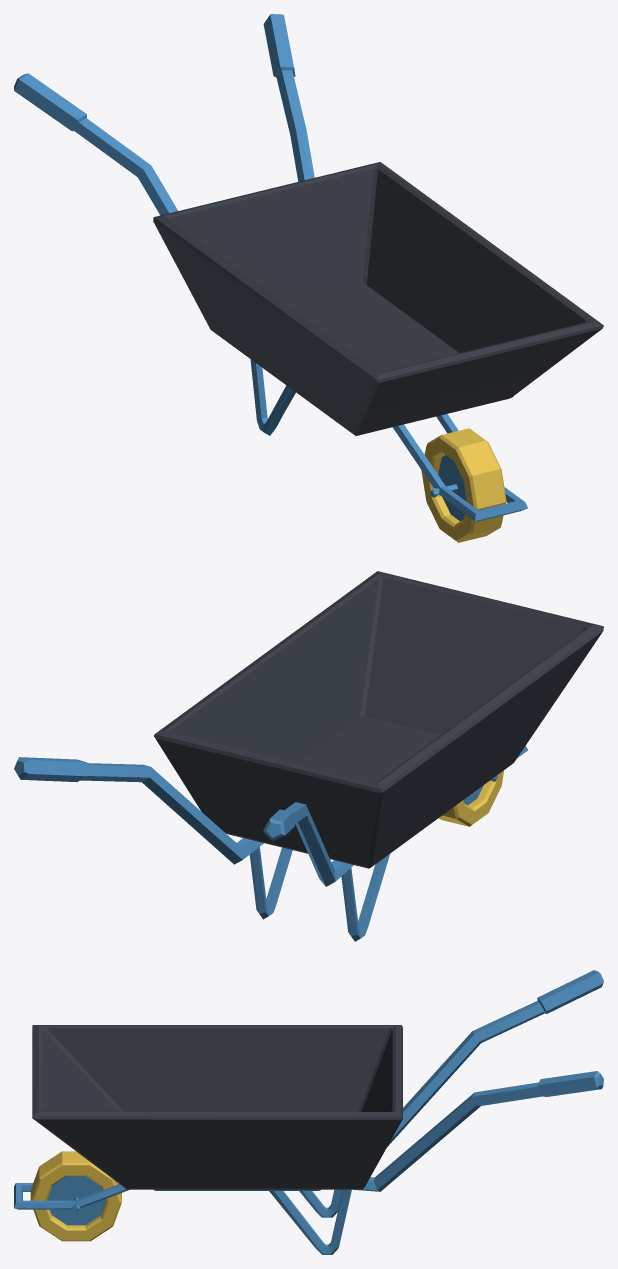
The model's file is cart_c.gltf.
The picture shows the model from 3 angles, top to bottom: view 1: azimuth 30°, elevation 25°; view 2: azimuth 150°, elevation 25°; view 3: azimuth 270°, elevation 25°; orthographic projection. The views are drawn at different scales.
Visible parts, largest first — view 1: body, wheel_7, wheel_5; view 2: body, wheel_7, wheel_0, wheel_3; view 3: body, wheel_6, wheel_4, wheel_2, wheel_1.
Boxes of the visible parts, x1,y1,x2,y2 form: body: [14, 14, 603, 542]; wheel_7: [421, 438, 473, 540]; wheel_5: [438, 455, 466, 521]; body: [14, 571, 603, 941]; wheel_7: [456, 770, 504, 824]; wheel_0: [349, 854, 389, 938]; wheel_3: [258, 847, 292, 915]; body: [14, 970, 603, 1254]; wheel_6: [33, 1165, 119, 1240]; wheel_4: [47, 1176, 105, 1225]; wheel_2: [274, 1189, 348, 1253]; wheel_1: [303, 1189, 340, 1216].
Size of the model in its own units: 0.8097 by 0.738 by 1.84.
1 material, 1 textured.
